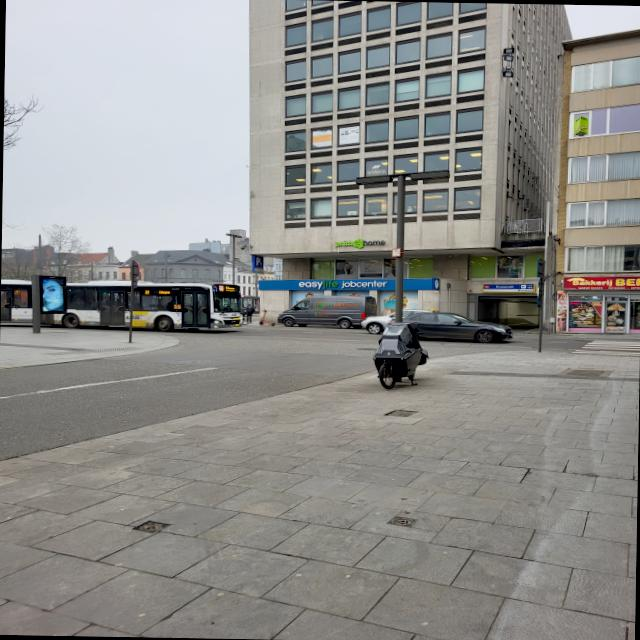bus-number: (218, 285, 223, 291)
